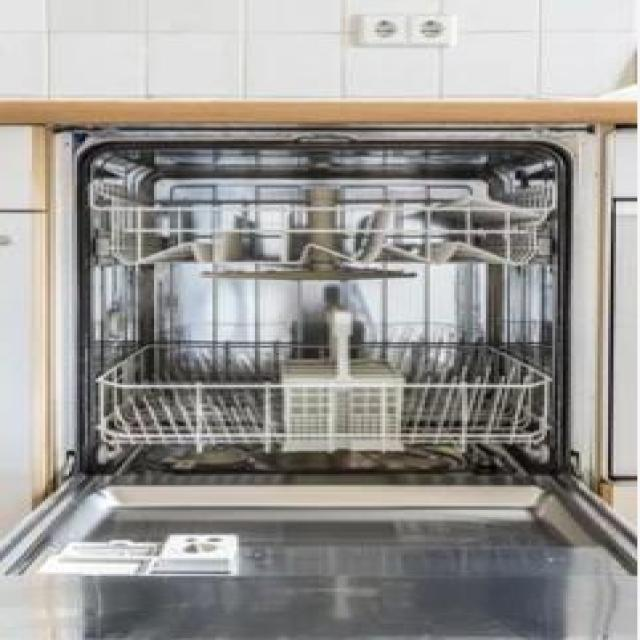dishwasher: (40, 123, 637, 638)
